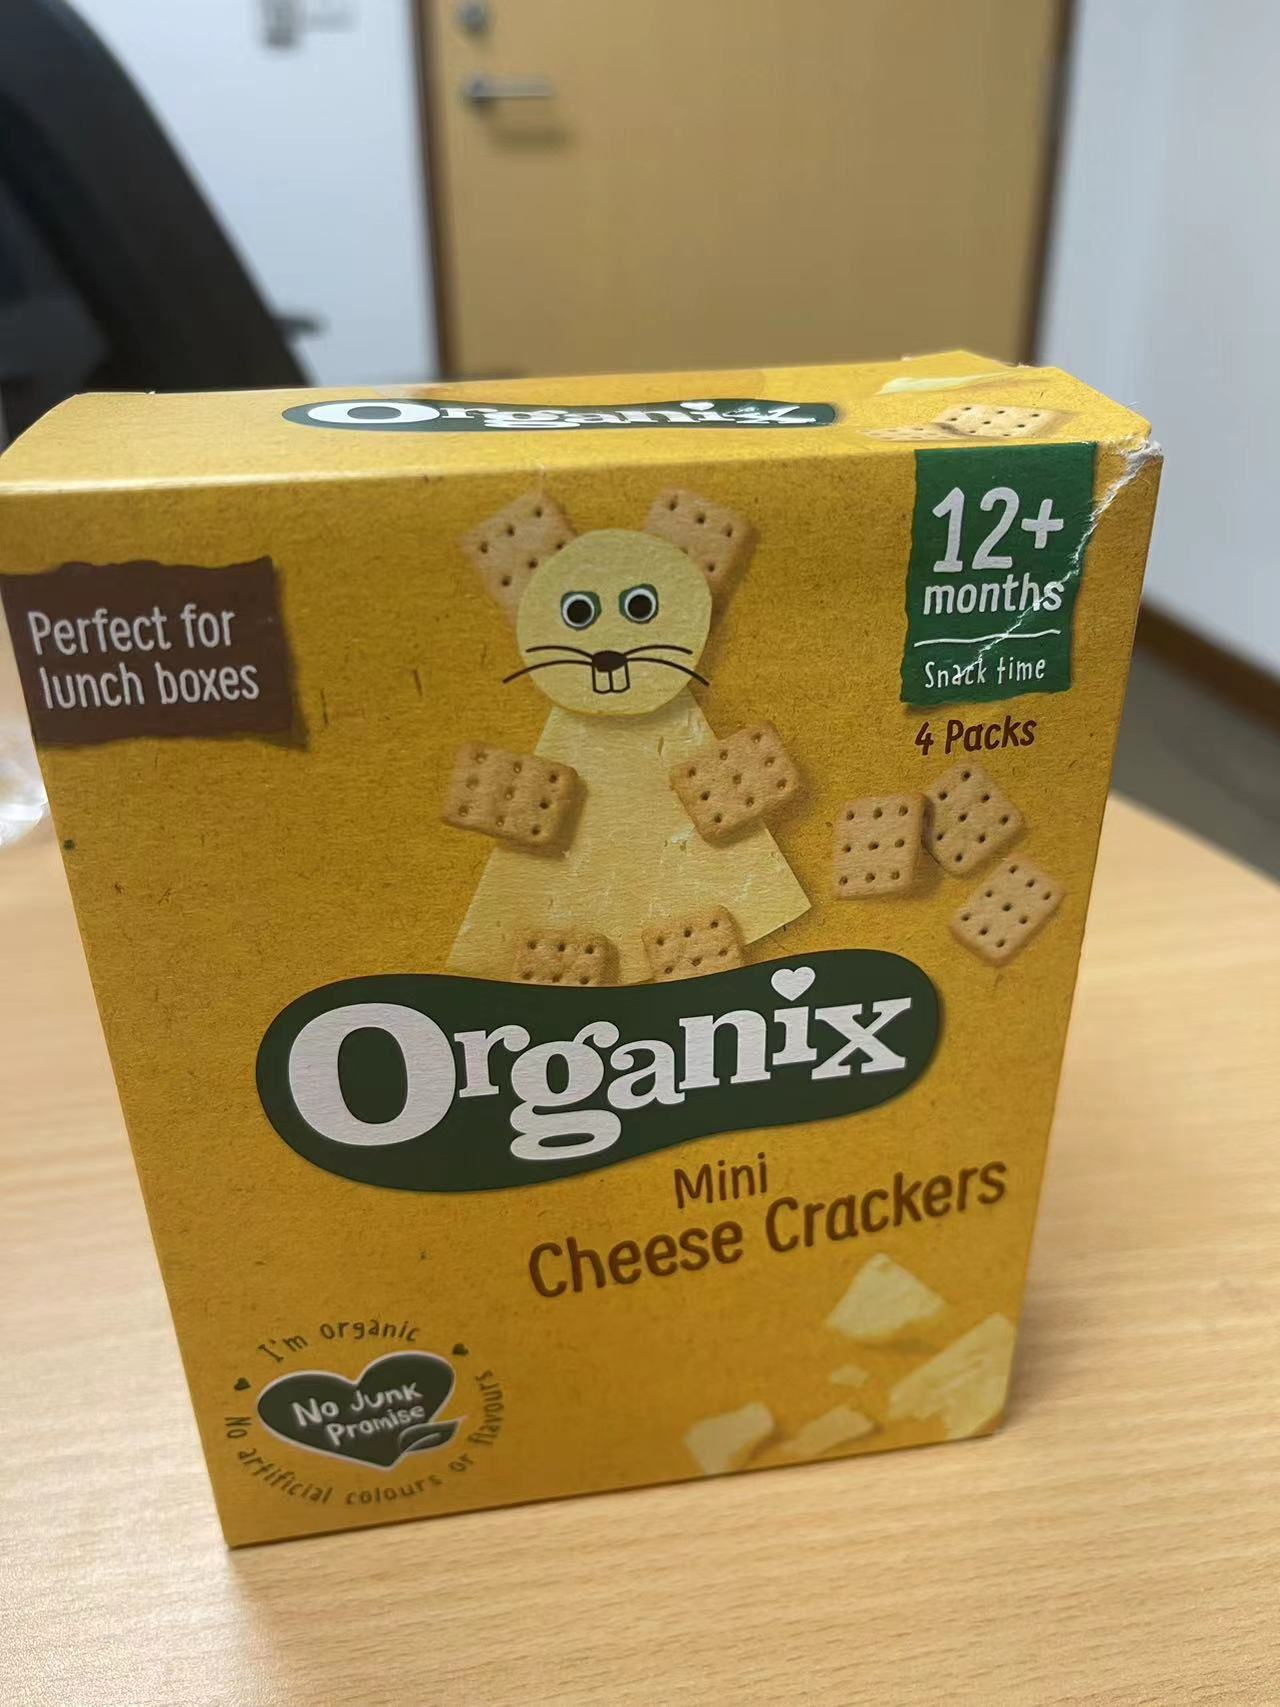Crackers_1-99g_NonHalal_NonHealthy: (11, 380, 1164, 1516)
